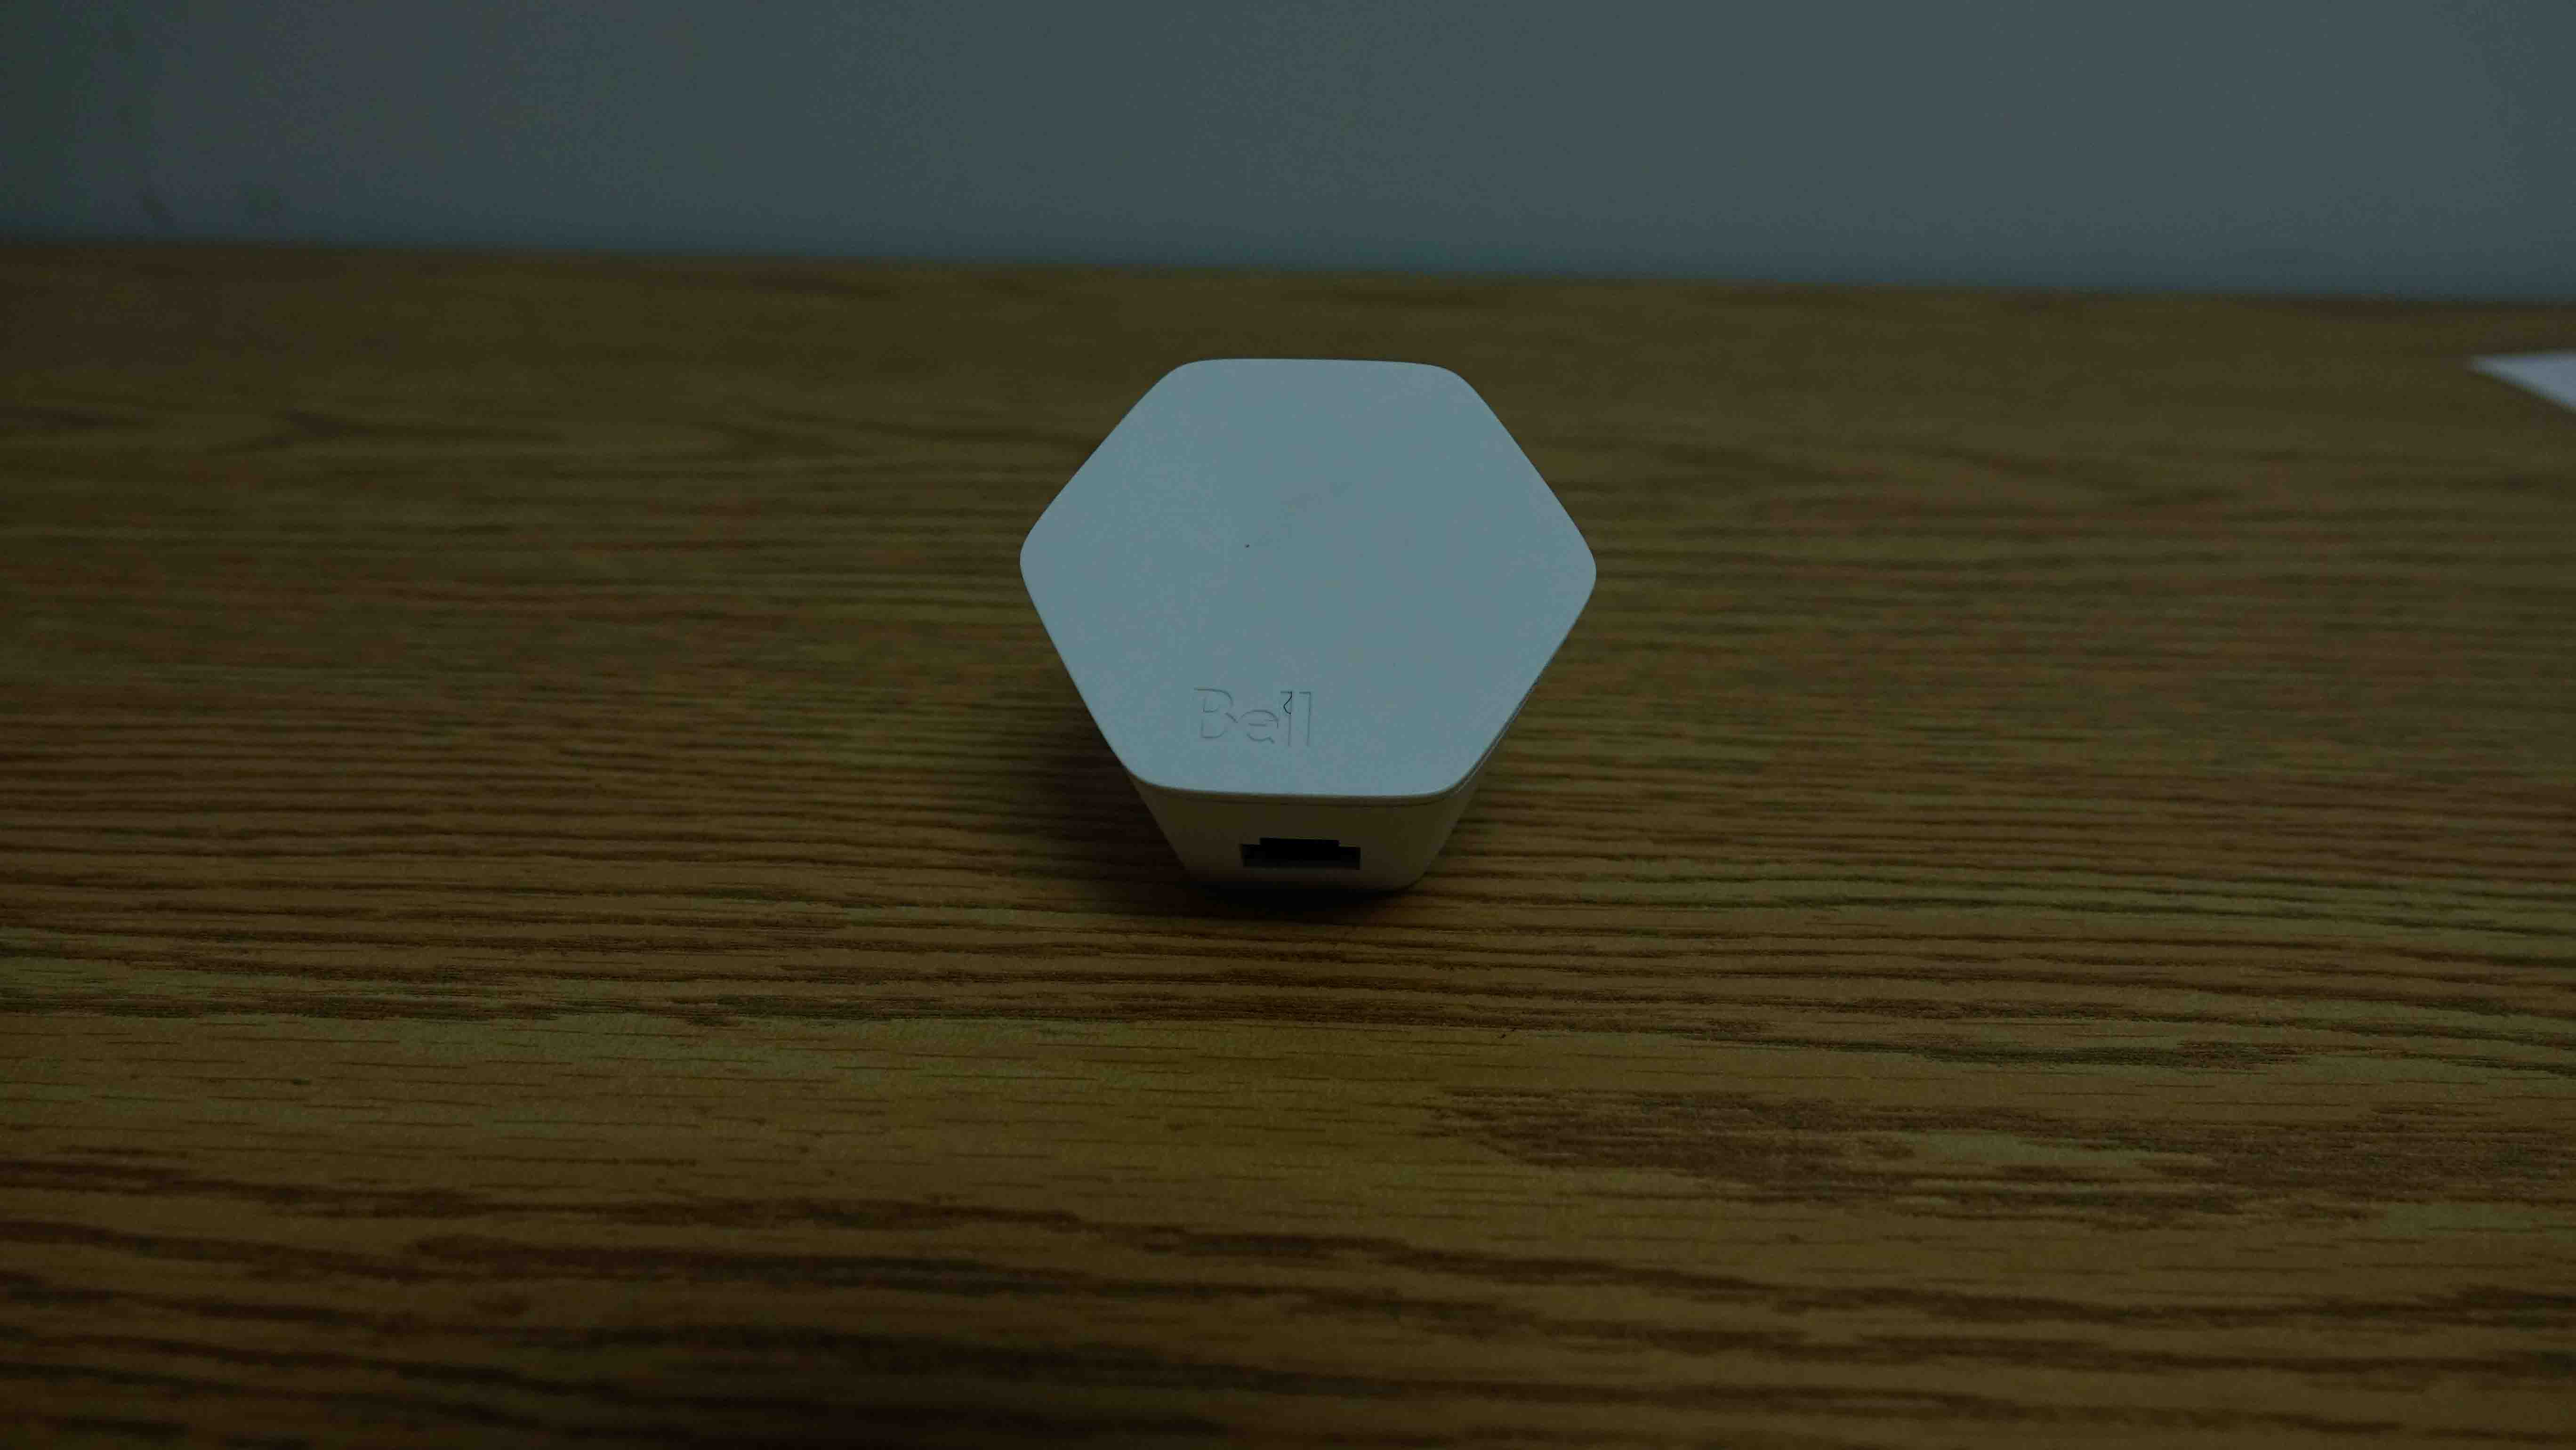pod: (1014, 348, 1628, 914)
